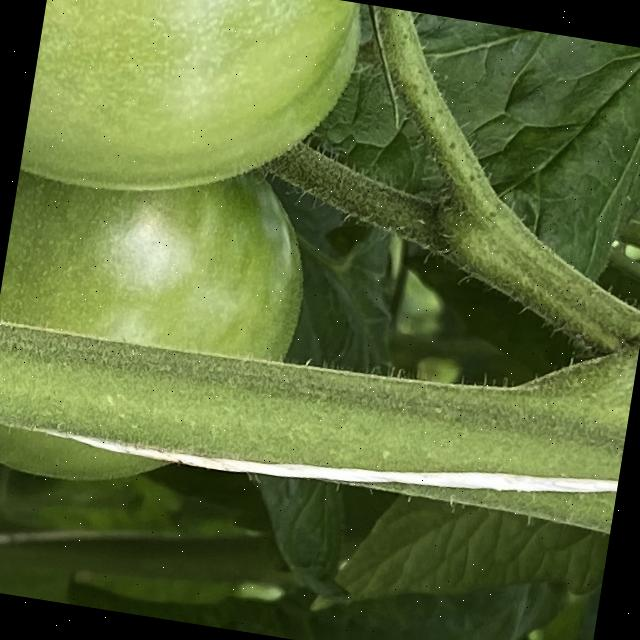tomato: (0, 0, 593, 640)
